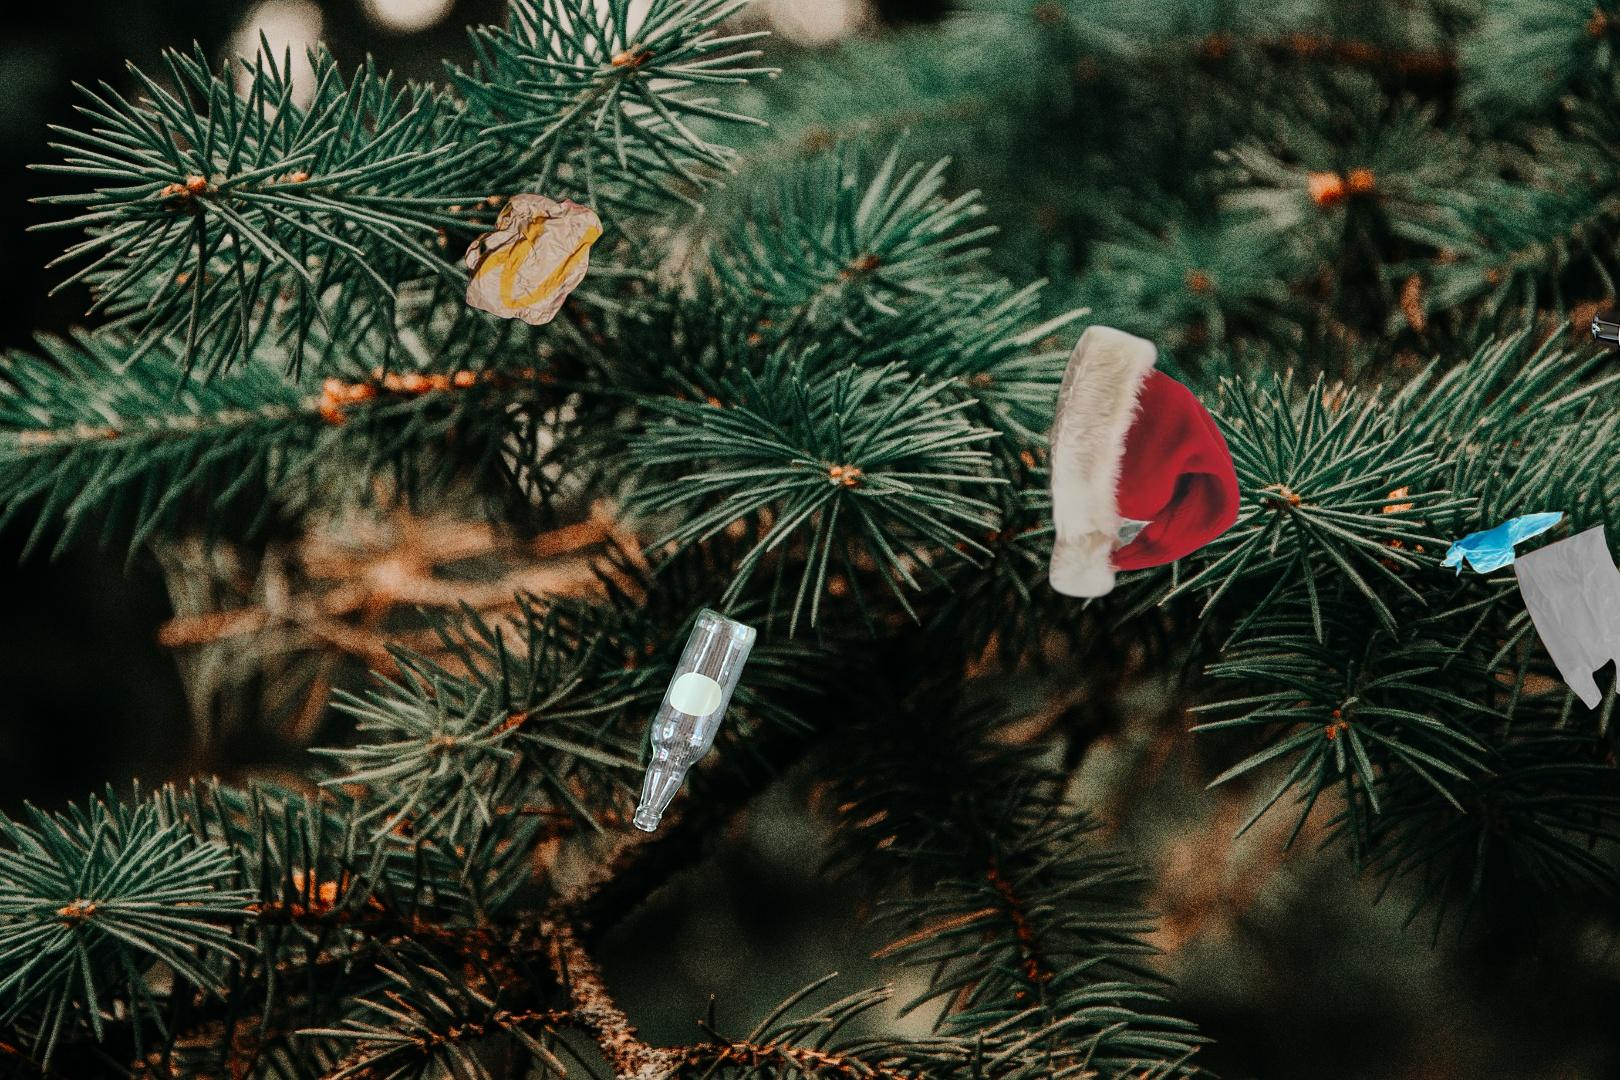glass: (628, 601, 763, 839), (1587, 168, 1620, 453)
paper: (1041, 319, 1465, 609)
paper-bag: (463, 190, 607, 327)
plastic-bag: (1436, 498, 1620, 714)
